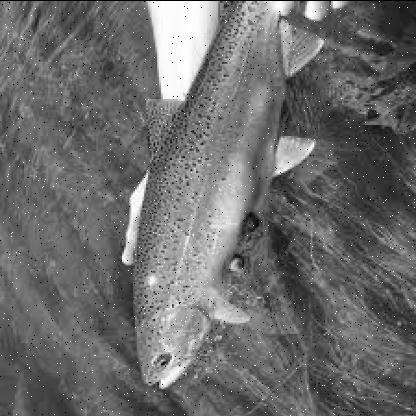fish: (130, 2, 324, 392)
